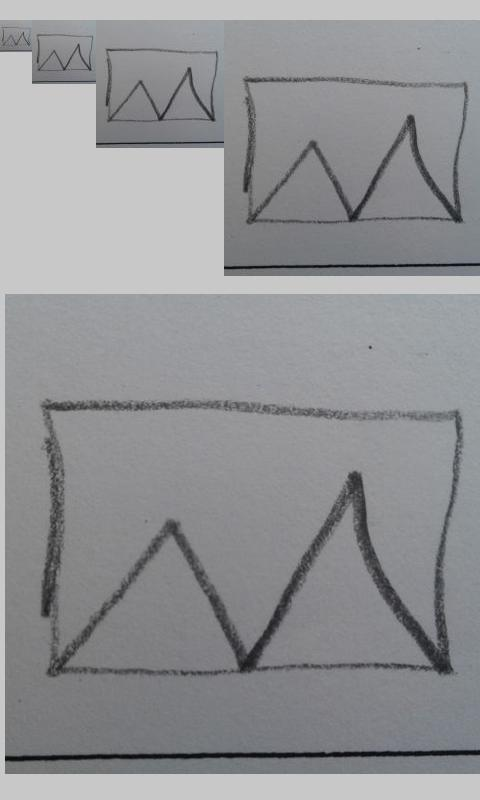image_view: (40, 396, 463, 680), (244, 76, 470, 225), (105, 47, 219, 124), (36, 34, 93, 72), (2, 26, 31, 47)
